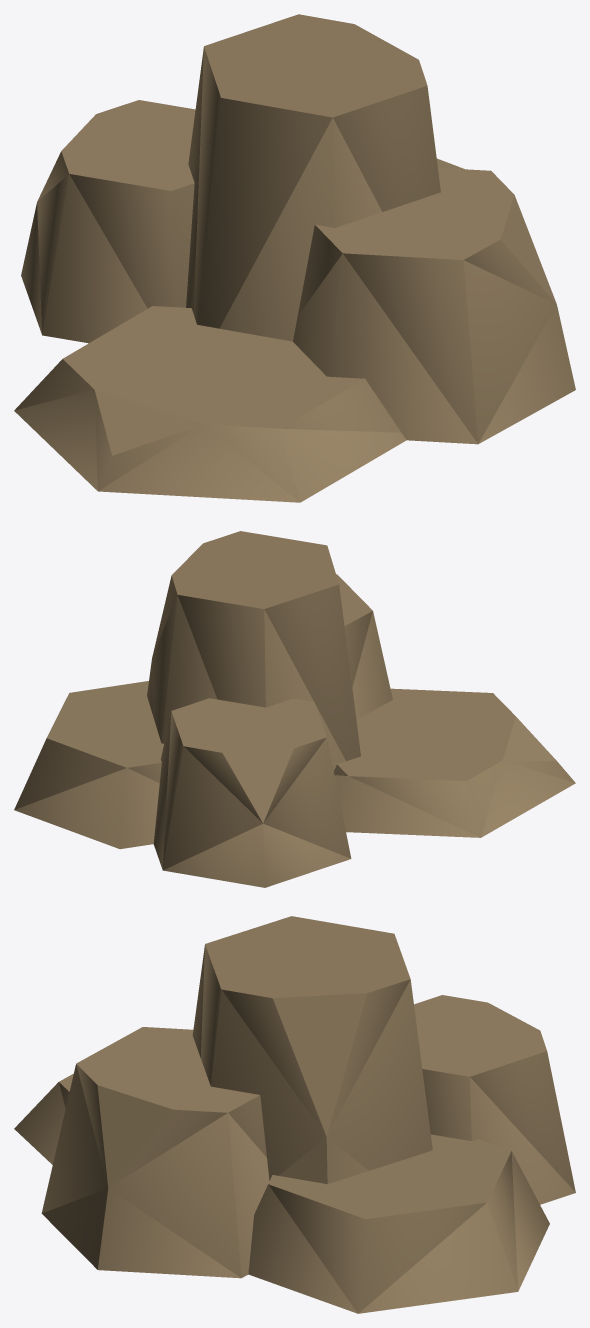
The model's file is deco_rock.glb.
3 renders of one model, top to bottom at view 1: azimuth 30°, elevation 25°; view 2: azimuth 150°, elevation 25°; view 3: azimuth 270°, elevation 25°, orthographic. The views are drawn at different scales.
Visible parts, largest first — view 1: deco; view 2: deco; view 3: deco.
Part boxes in pixels (x1=…): deco: x1=14, y1=14, x2=575, y2=502; deco: x1=14, y1=531, x2=575, y2=887; deco: x1=14, y1=916, x2=575, y2=1313.
Bounding box in the file's own units: 0.6 × 0.2788 × 0.5779.
